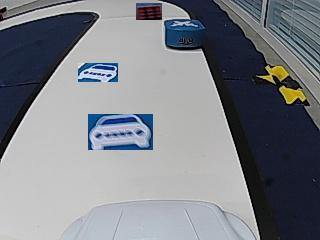prop: (164, 19, 205, 51)
